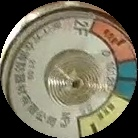green: (112, 62, 138, 102)
red: (92, 16, 136, 60)
yellow: (77, 92, 130, 137)
